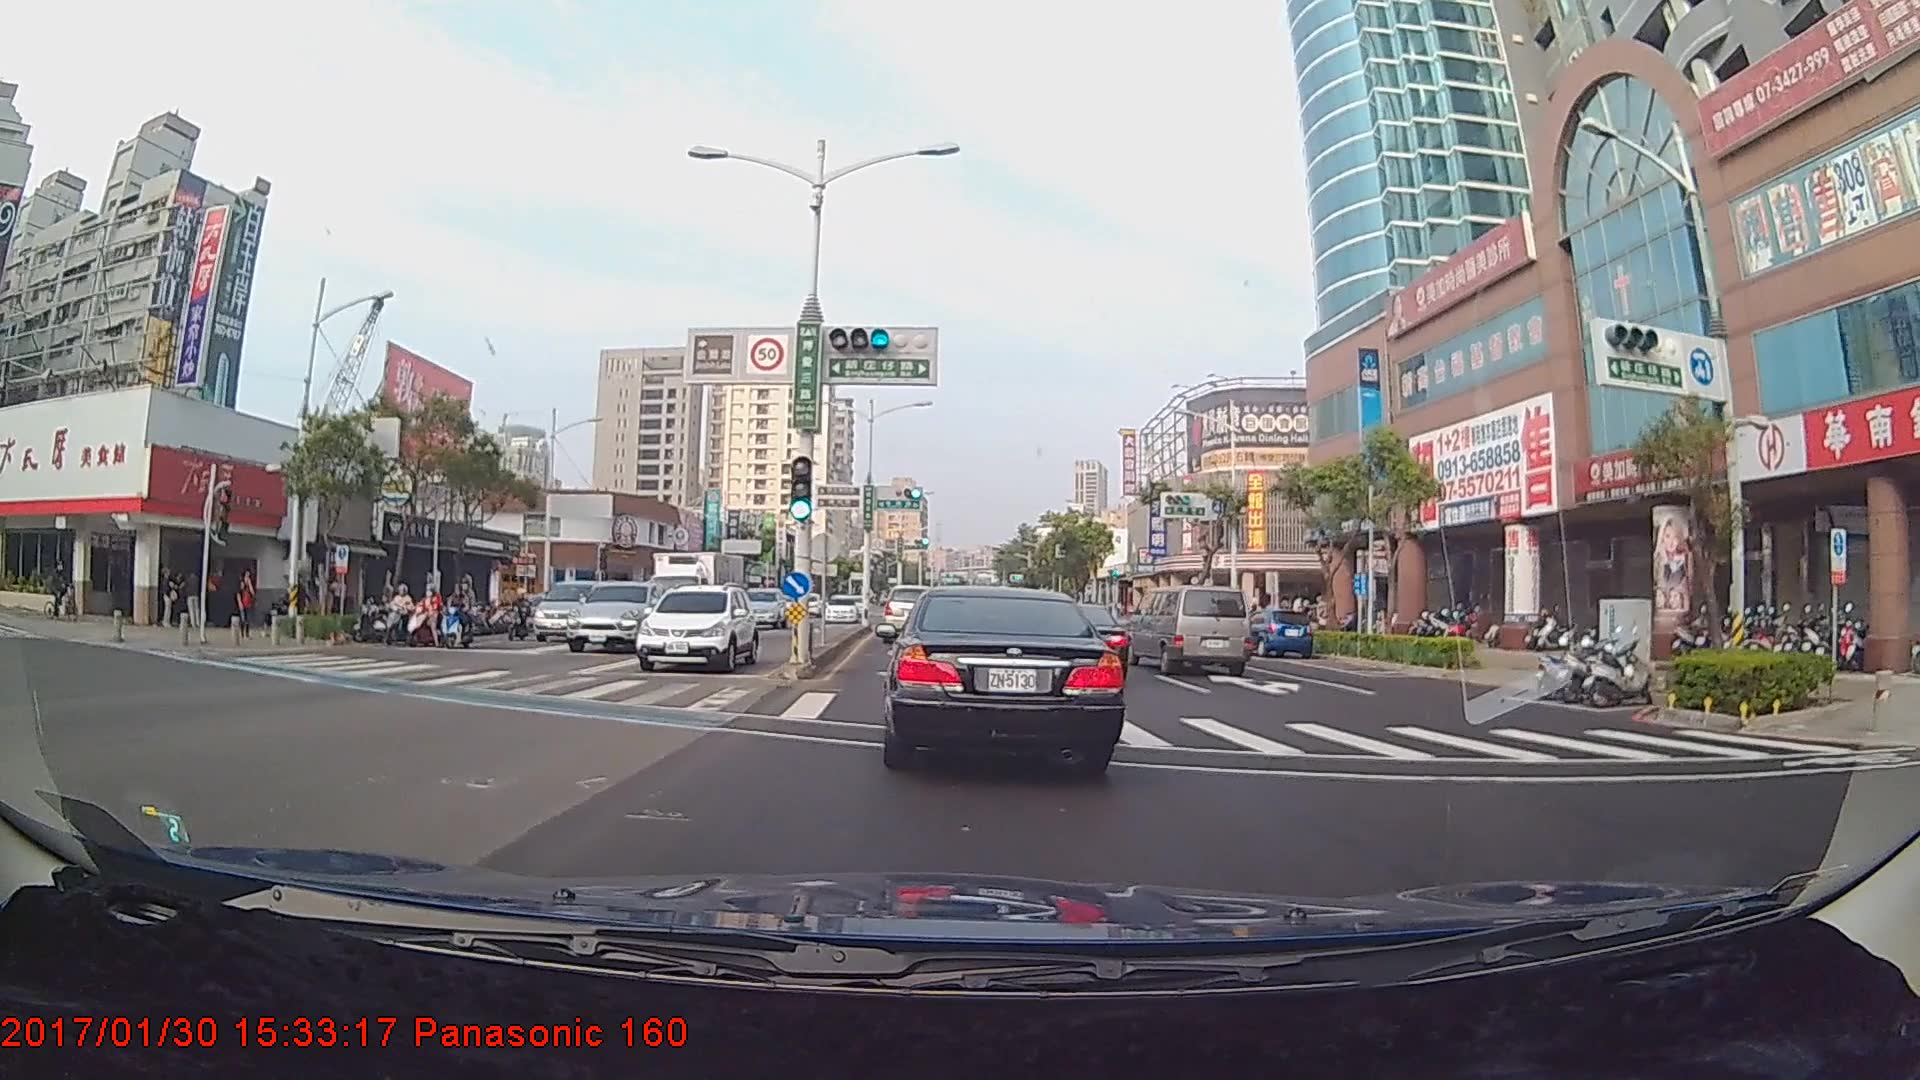pedestrian: (160, 561, 184, 630), (183, 567, 209, 626), (237, 569, 257, 637)
rider: (436, 579, 485, 647), (403, 580, 453, 646), (372, 582, 419, 649), (34, 560, 76, 618)
vehicle: (879, 581, 1122, 769), (641, 545, 754, 644), (1130, 584, 1253, 675), (636, 584, 757, 671), (1024, 596, 1125, 678), (563, 580, 656, 654), (530, 578, 607, 640), (1239, 604, 1317, 659), (880, 580, 940, 643), (739, 585, 788, 633), (824, 591, 856, 621)
